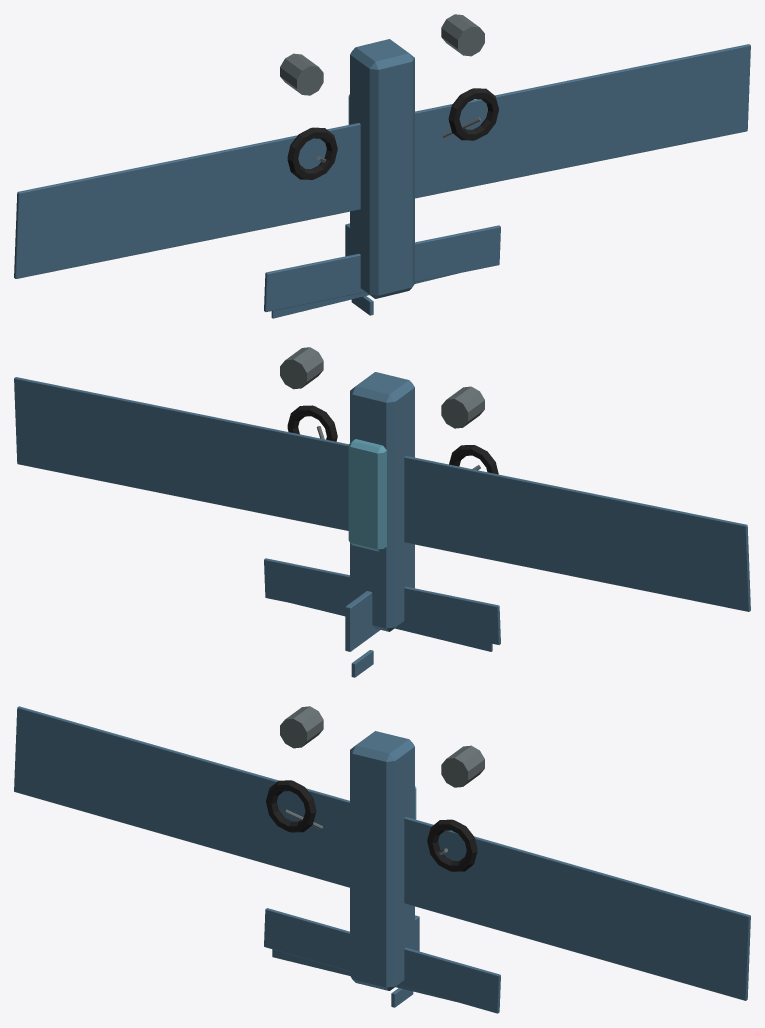
3 renders of one model, top to bottom at view 1: azimuth 30°, elevation 25°; view 2: azimuth 150°, elevation 25°; view 3: azimuth 330°, elevation 25°, orthographic.
Parts seen in each view (by area): view 1: main_wing.045, fuselage.040, horizontal_tail.045, wheel_1.038, wheel_0.038, engine_mount_0.045, engine_mount_1.010, elevator.045; view 2: main_wing.045, fuselage.040, aileron_R.045, horizontal_tail.045, canopy.040, elevator.045, aileron_L.045, vertical_tail.045, engine_mount_0.045, engine_mount_1.010, wheel_1.038, wheel_0.038; view 3: main_wing.045, fuselage.040, horizontal_tail.045, wheel_0.038, wheel_1.038, engine_mount_1.010, engine_mount_0.045, elevator.045.
Boxes of the visible parts, x1,y1,x2,y2 form: main_wing.045: [14, 44, 750, 278]; fuselage.040: [350, 39, 414, 298]; horizontal_tail.045: [264, 225, 500, 311]; wheel_1.038: [448, 88, 498, 140]; wheel_0.038: [287, 127, 337, 179]; engine_mount_0.045: [280, 53, 323, 95]; engine_mount_1.010: [441, 14, 484, 56]; elevator.045: [271, 273, 456, 318]; main_wing.045: [14, 377, 750, 611]; fuselage.040: [350, 372, 414, 631]; aileron_R.045: [22, 402, 212, 472]; horizontal_tail.045: [264, 558, 500, 644]; canopy.040: [348, 439, 386, 551]; elevator.045: [272, 577, 492, 651]; aileron_L.045: [553, 533, 740, 601]; vertical_tail.045: [345, 591, 380, 651]; engine_mount_0.045: [441, 386, 484, 428]; engine_mount_1.010: [280, 347, 323, 389]; wheel_1.038: [287, 405, 337, 441]; wheel_0.038: [449, 445, 498, 474]; main_wing.045: [14, 706, 750, 1000]; fuselage.040: [350, 731, 414, 990]; horizontal_tail.045: [264, 908, 500, 1013]; wheel_0.038: [266, 780, 316, 832]; wheel_1.038: [427, 819, 477, 871]; engine_mount_1.010: [441, 745, 484, 787]; engine_mount_0.045: [280, 706, 323, 748]; elevator.045: [272, 949, 455, 1001].
Bounding box in the file's own units: 25.82 × 9.5 × 3.19.
